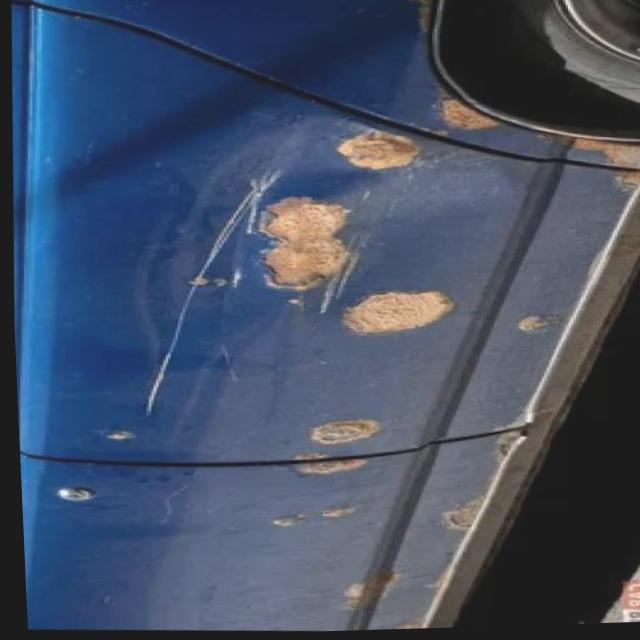Rust: (253, 191, 361, 296), (334, 283, 462, 341), (531, 129, 640, 193), (332, 123, 424, 171), (432, 90, 508, 131), (339, 565, 401, 612), (286, 449, 370, 478), (306, 415, 384, 444), (493, 405, 526, 466), (439, 493, 483, 536), (408, 0, 437, 39), (516, 310, 560, 333), (187, 272, 234, 292), (399, 122, 451, 139), (268, 510, 310, 530), (318, 502, 358, 519), (393, 612, 425, 629), (102, 427, 137, 440)
Scratch: (144, 173, 279, 418)
